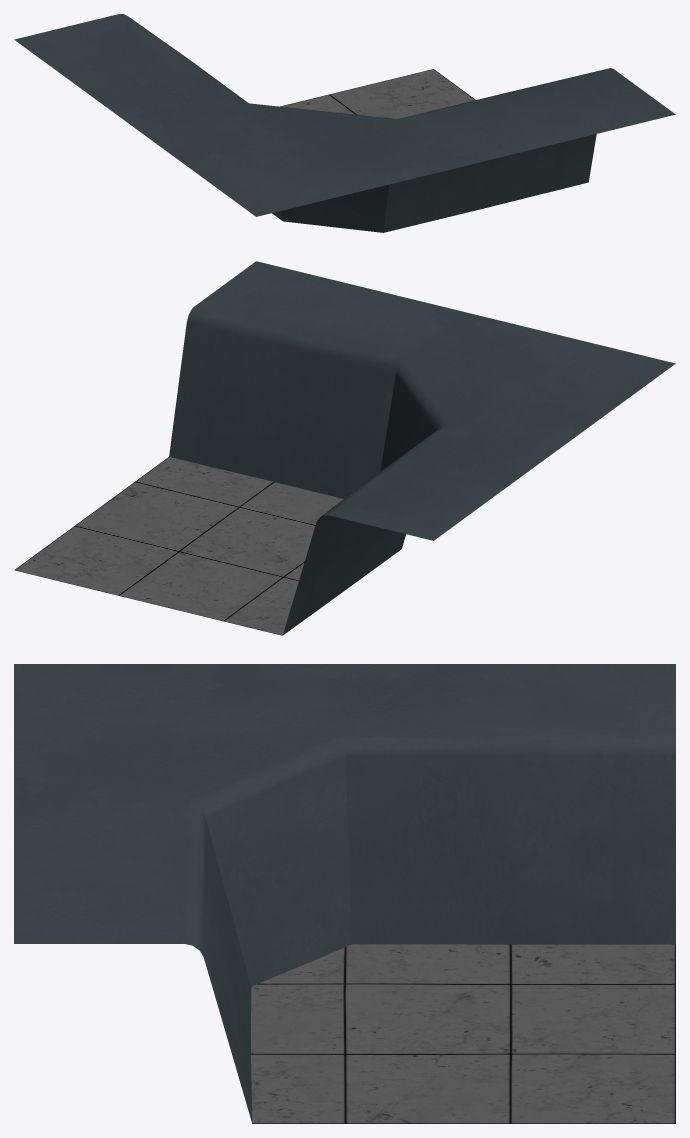
File: tileset.fbx_Collection_10.fbx
3 renders of one model, top to bottom at view 1: azimuth 30°, elevation 25°; view 2: azimuth 150°, elevation 25°; view 3: azimuth 270°, elevation 25°, orthographic. The views are drawn at different scales.
Visible parts, largest first — view 1: 7_0_02_MSH; view 2: 7_0_02_MSH; view 3: 7_0_02_MSH.
Part boxes in pixels (x1,y1,x2,y2): 7_0_02_MSH: (14, 14, 675, 232); 7_0_02_MSH: (14, 261, 675, 635); 7_0_02_MSH: (14, 664, 675, 1123).
Bounding box in the file's own units: 500 × 150 × 500.
